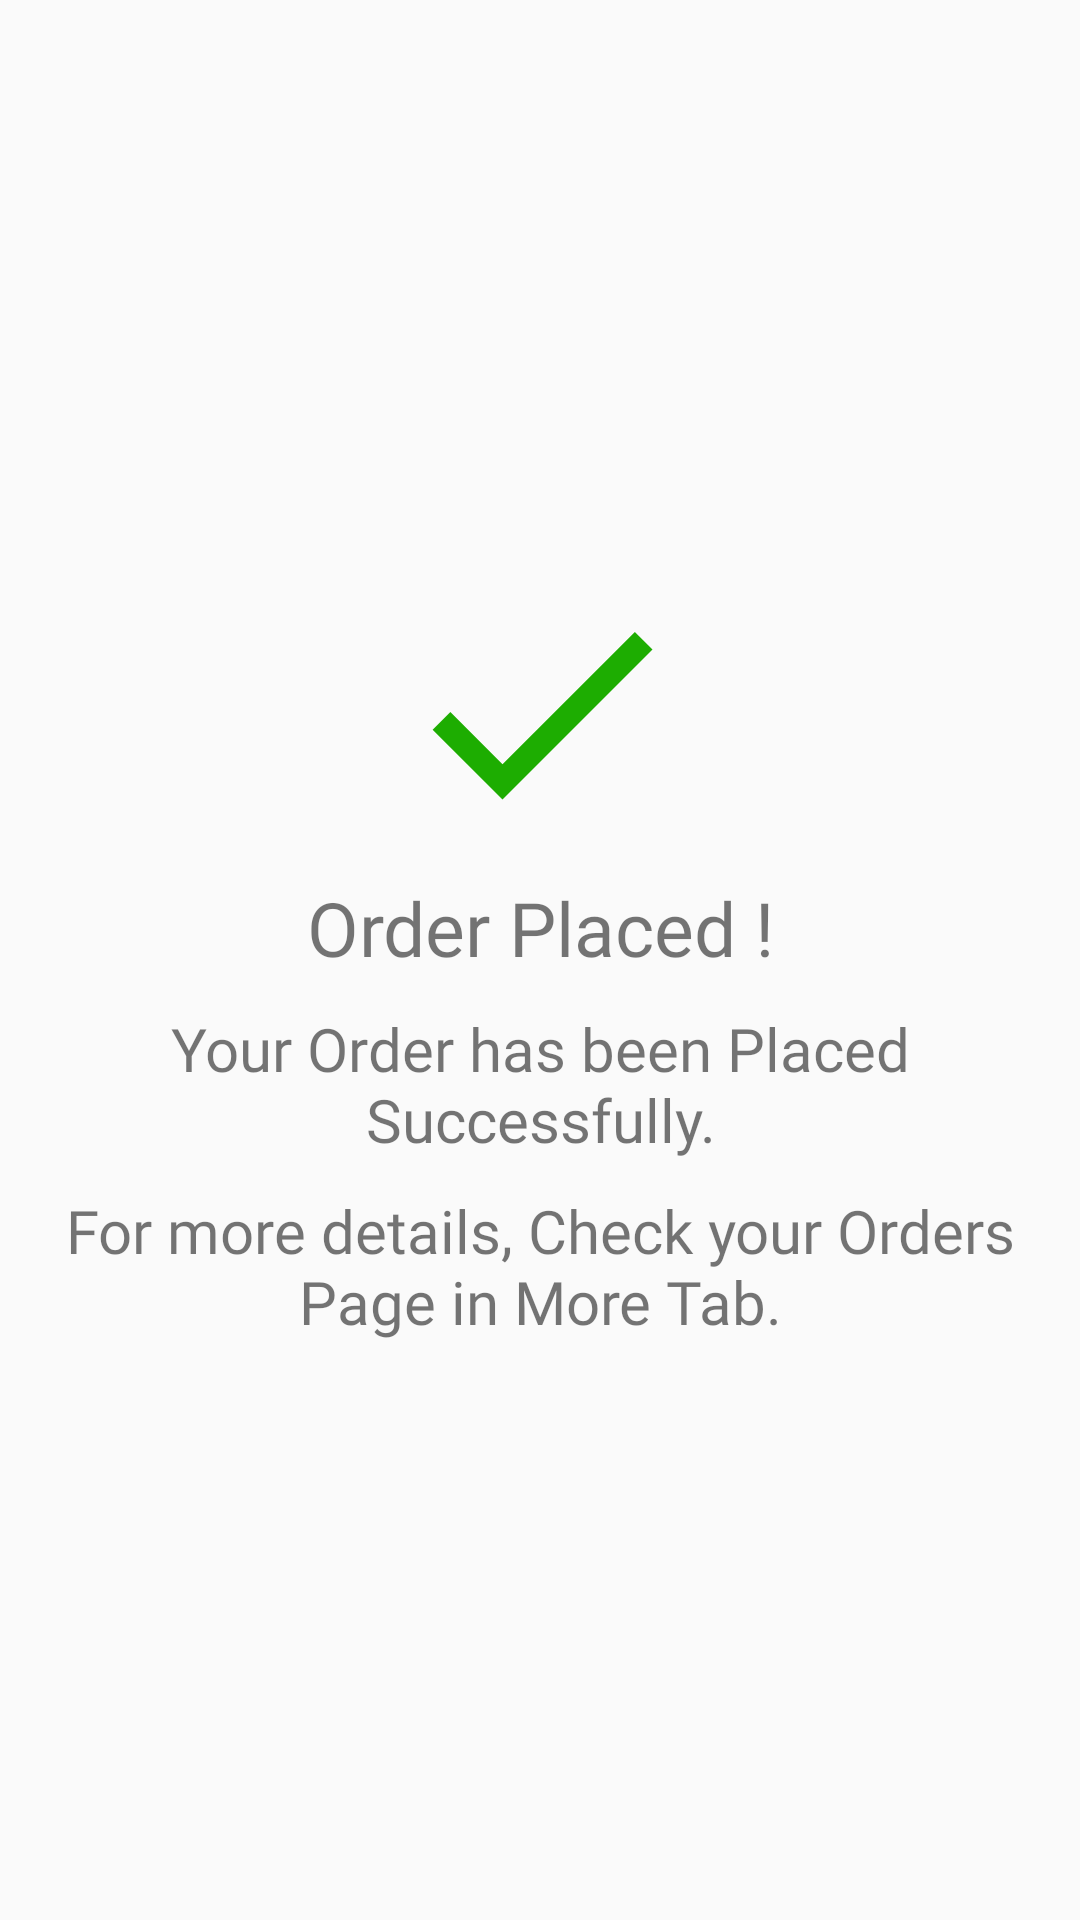

Locate icon controls on the screen. Image size 1080×1920, boxes as {"x1": x1, "y1": y1, "x2": x2, "y2": y2}.
tick: {"x1": 432, "y1": 632, "x2": 653, "y2": 800}
